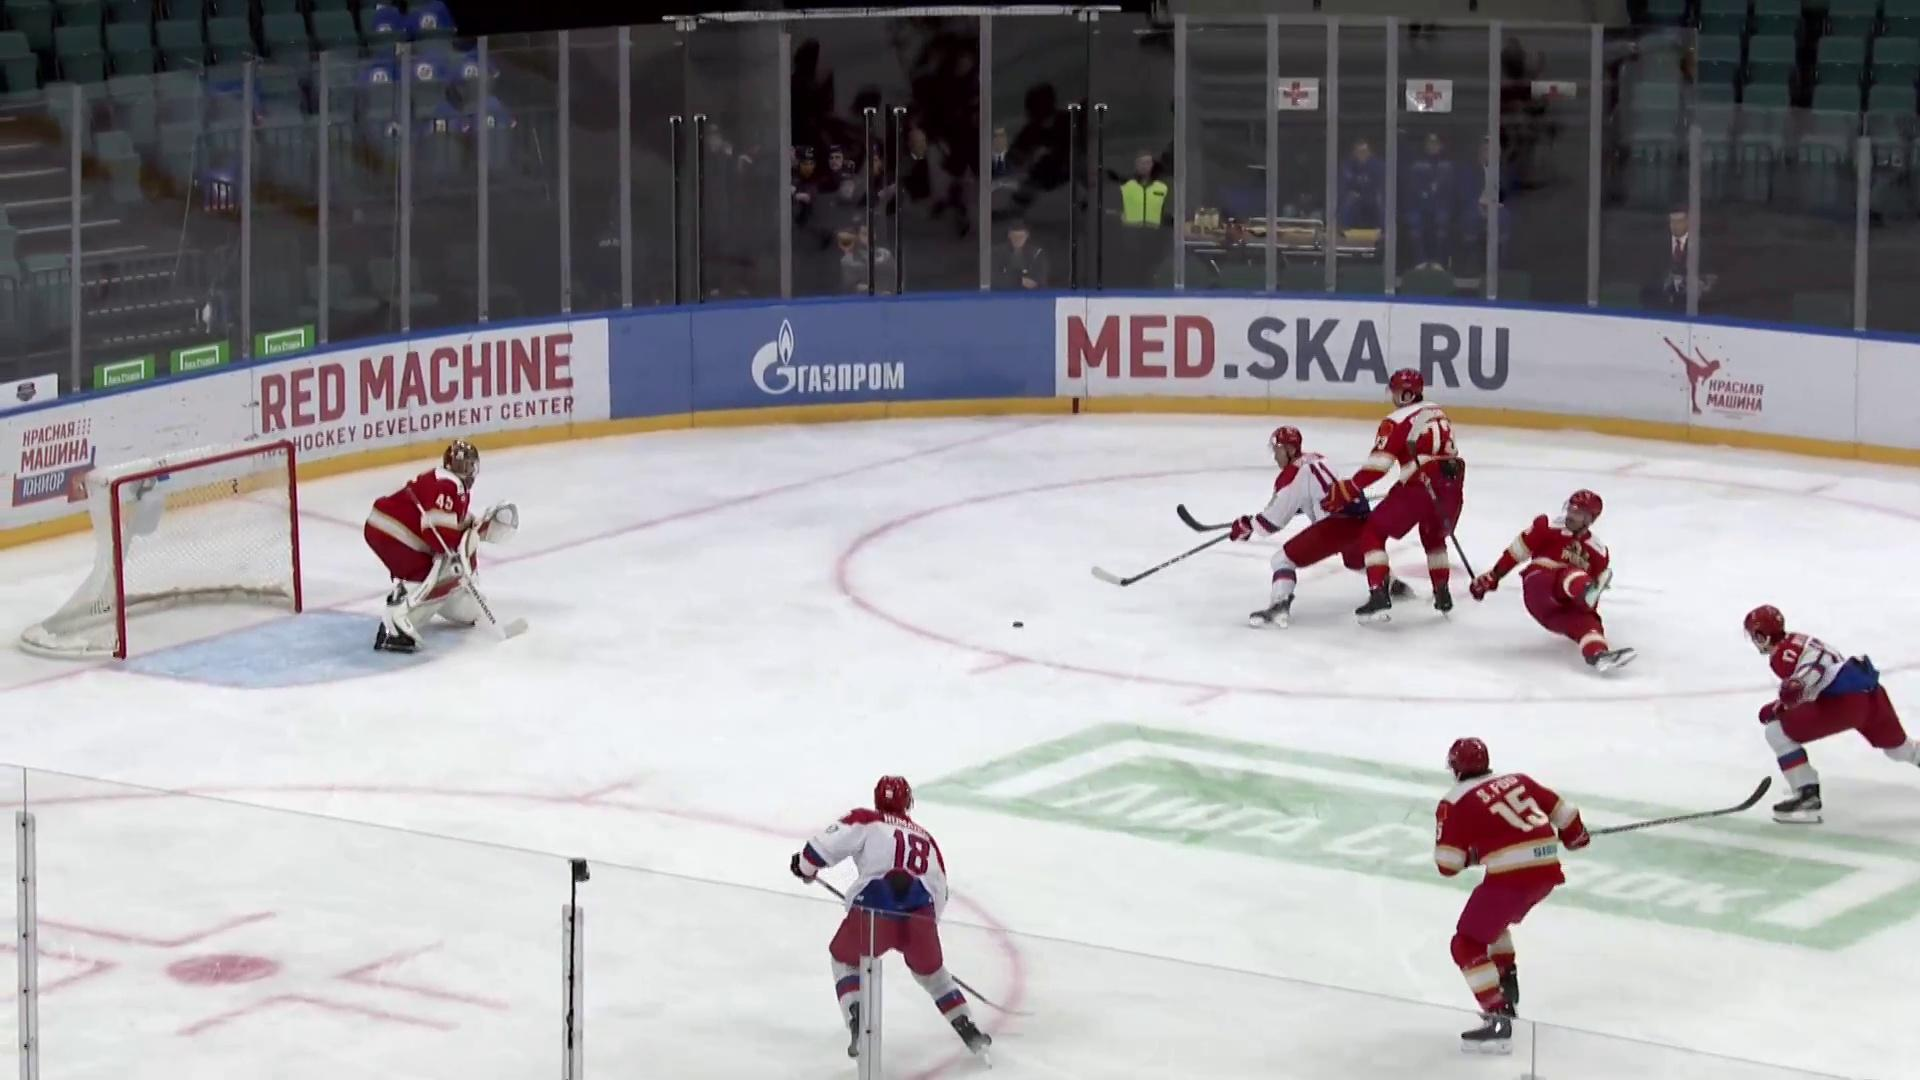ball: (1010, 620, 1026, 629)
